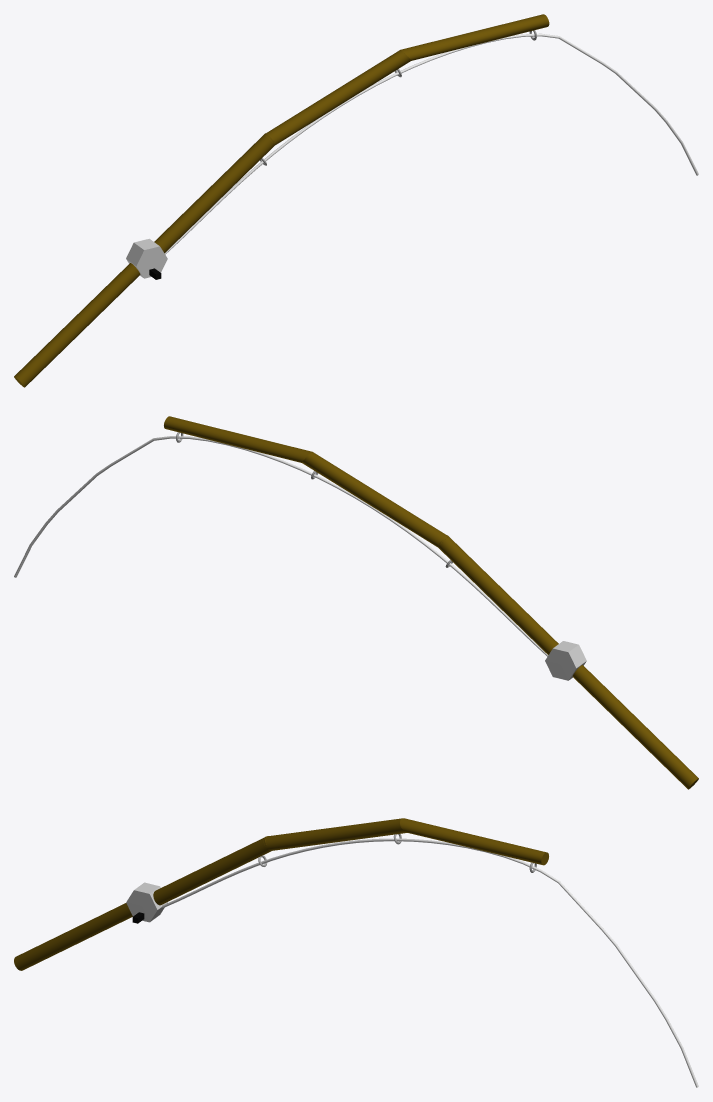
File: FishingRod.fbx
3 renders of one model, top to bottom at view 1: azimuth 30°, elevation 25°; view 2: azimuth 150°, elevation 25°; view 3: azimuth 330°, elevation 25°, orthographic.
Visible parts, largest first — view 1: pCylinder18, pCylinder20, pCylinder19, pCylinder21, extrudedSurface1, pSphere1; view 2: pCylinder18, pCylinder20, pCylinder19, pCylinder21, extrudedSurface1, pSphere1; view 3: extrudedSurface1, pCylinder20, pCylinder21, pCylinder18, pCylinder19, pSphere1.
Part boxes in pixels (left/top/right/bottom): pCylinder18: left=14, top=263, right=140, bottom=387; pCylinder20: left=264, top=50, right=411, bottom=145; pCylinder19: left=154, top=133, right=274, bottom=253; pCylinder21: left=401, top=14, right=549, bottom=60; extrudedSurface1: left=164, top=33, right=698, bottom=254; pSphere1: left=126, top=238, right=167, bottom=278; pCylinder18: left=572, top=665, right=698, bottom=789; pCylinder20: left=302, top=452, right=448, bottom=547; pCylinder19: left=438, top=535, right=558, bottom=654; pCylinder21: left=164, top=416, right=312, bottom=462; extrudedSurface1: left=14, top=436, right=548, bottom=656; pSphere1: left=545, top=641, right=586, bottom=680; extrudedSurface1: left=162, top=838, right=698, bottom=1087; pCylinder20: left=263, top=818, right=406, bottom=850; pCylinder21: left=400, top=818, right=548, bottom=865; pCylinder18: left=14, top=903, right=132, bottom=970; pCylinder19: left=153, top=836, right=271, bottom=905; pSphere1: left=126, top=882, right=167, bottom=922.
Bounding box in the file's own units: 116 × 39.66 × 5.
